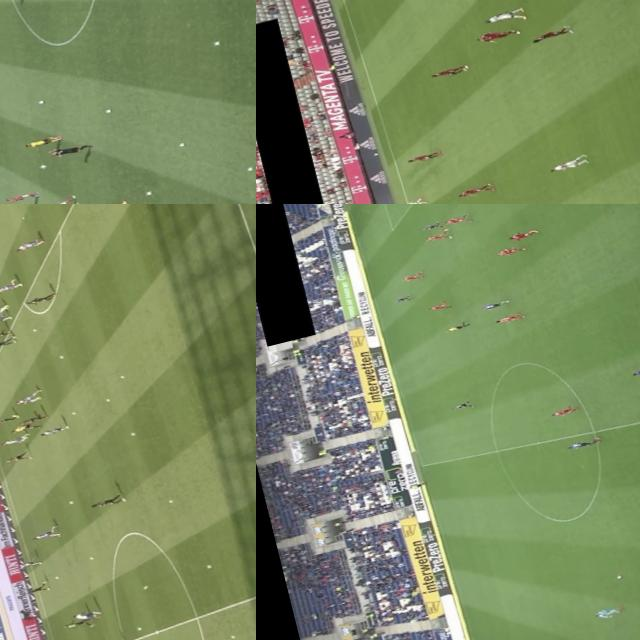ball: (610, 574, 624, 582), (174, 141, 186, 149), (144, 189, 154, 197), (34, 97, 44, 105), (212, 39, 220, 47), (244, 166, 253, 172), (64, 499, 73, 505), (203, 564, 212, 570), (138, 585, 148, 590), (116, 374, 123, 380), (56, 354, 64, 359), (103, 108, 110, 113), (166, 500, 174, 504), (37, 166, 44, 170), (29, 328, 36, 332), (68, 412, 74, 416), (52, 576, 58, 580), (87, 558, 91, 560)
player: (524, 23, 573, 48), (472, 23, 523, 47), (480, 6, 527, 27), (546, 154, 586, 176), (426, 64, 470, 80), (401, 148, 440, 166), (453, 183, 492, 200), (564, 434, 603, 451), (89, 493, 128, 509), (493, 242, 526, 260), (59, 616, 96, 632), (419, 228, 454, 244), (3, 189, 40, 204), (590, 604, 624, 620), (25, 135, 61, 149), (12, 389, 44, 404), (22, 292, 52, 308), (442, 212, 472, 228), (17, 412, 48, 427), (505, 228, 536, 243), (31, 525, 61, 540), (1, 450, 31, 465), (71, 606, 99, 622), (13, 238, 44, 252), (491, 312, 522, 326), (25, 580, 51, 596), (414, 220, 446, 233), (550, 404, 578, 418), (480, 298, 510, 311), (40, 194, 78, 204), (15, 556, 40, 570), (426, 299, 450, 313), (401, 272, 428, 284), (0, 434, 26, 446), (0, 411, 22, 425), (393, 195, 427, 204), (0, 277, 19, 293), (626, 357, 640, 378), (0, 335, 18, 350), (41, 425, 67, 435), (448, 401, 470, 412), (392, 294, 412, 304), (0, 327, 10, 342), (0, 304, 10, 319), (0, 312, 10, 324), (224, 632, 238, 640), (102, 396, 110, 402), (133, 626, 142, 631), (128, 431, 136, 436)
